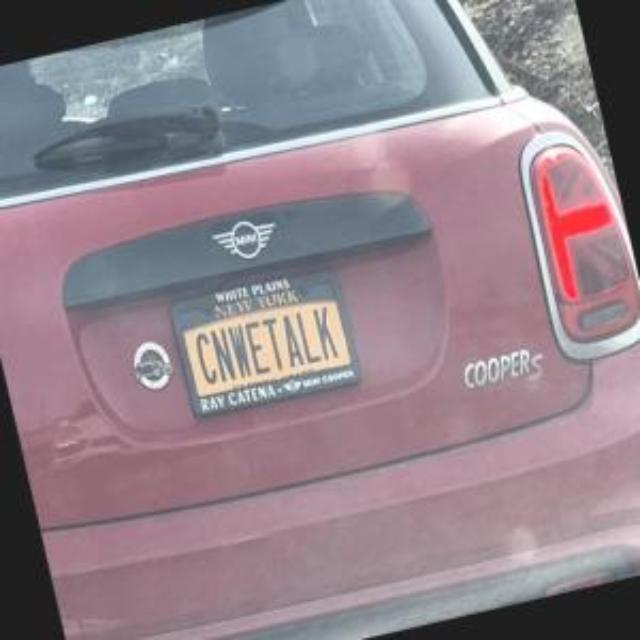License Plate: (167, 266, 362, 418)
